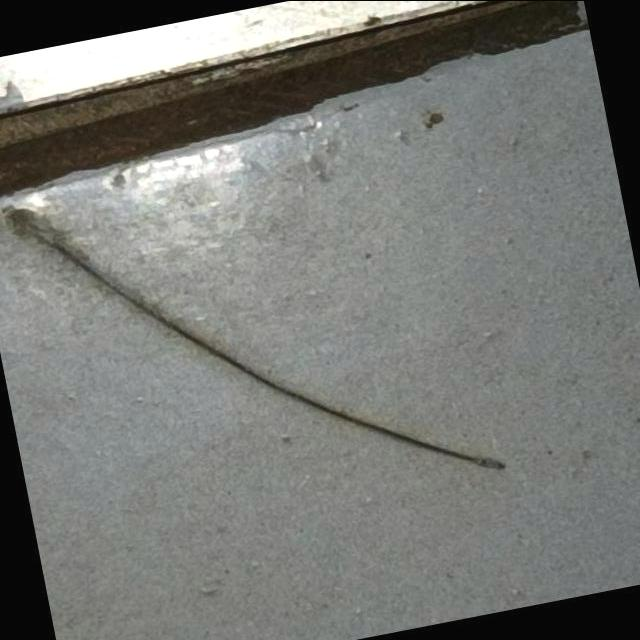defect: (0, 203, 518, 482)
